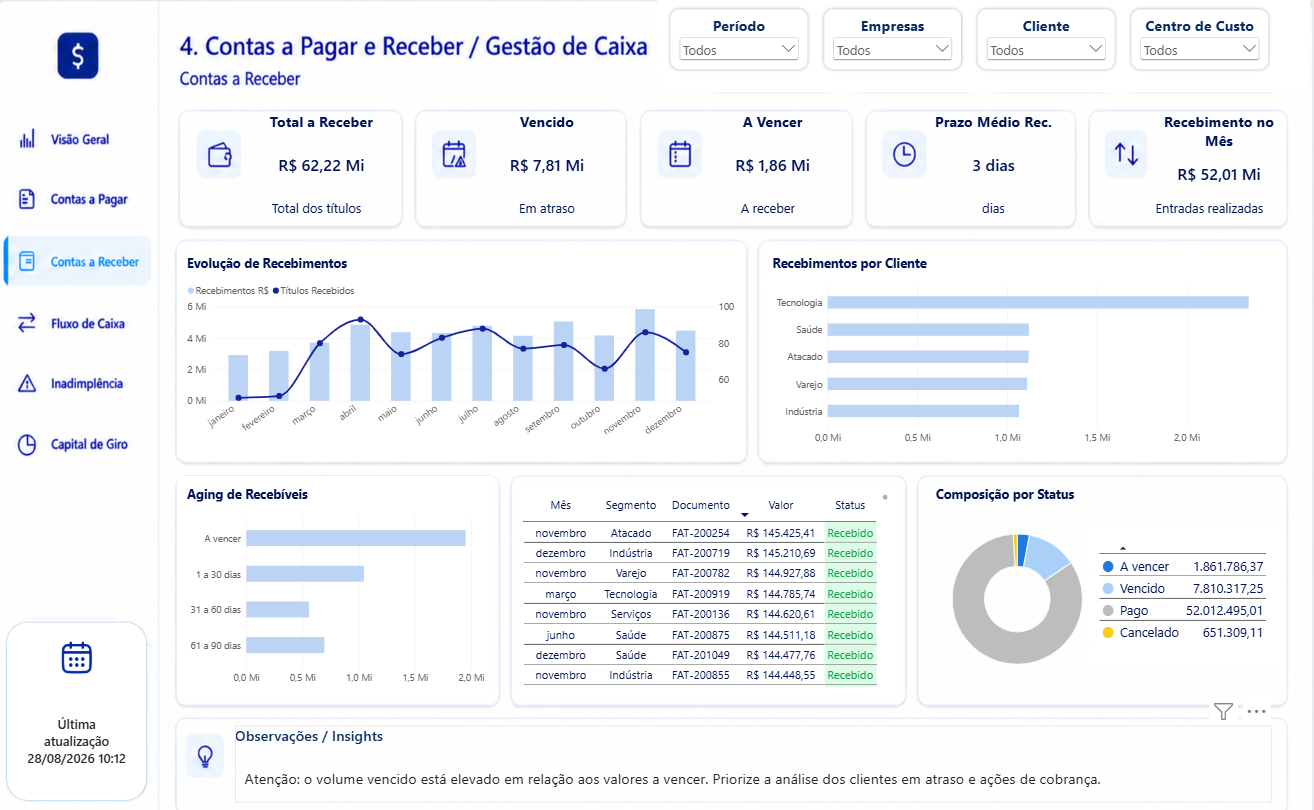

The page's visual inventory and layout, read from the dashboard file:
{"tool":"powerbi","page":{"name":"Contas à Receber","canvas":[2200,1400],"ordinal":2},"visuals":[{"type":"actionButton","box":[16,608,240,64],"z":0},{"type":"actionButton","box":[16,432,240,64],"z":1000},{"type":"actionButton","box":[16,512,240,64],"z":2000},{"type":"actionButton","box":[16,240,240,64],"z":3000},{"type":"actionButton","box":[16,160,224,64],"z":4000},{"type":"shape","box":[16,1040,240,304],"z":5000},{"type":"image","box":[80,1072,112,64],"z":6000},{"type":"shape","box":[1104,0,1088,160],"z":7000},{"type":"shape","box":[1120,16,240,112],"z":8000},{"type":"shape","box":[1376,16,240,112],"z":9000},{"type":"shape","box":[1632,16,240,112],"z":10000},{"type":"shape","box":[1888,16,240,112],"z":11000},{"type":"textbox","box":[1168,32,144,48],"z":12000},{"type":"textbox","box":[1680,32,144,48],"z":13000},{"type":"textbox","box":[1424,32,144,48],"z":14000},{"type":"textbox","box":[1904,32,208,48],"z":15000},{"type":"slicer","fields":{"Values":["dCalendario.Mes_Ano_Eixo"]},"box":[1136,64,208,48],"z":16000},{"type":"slicer","fields":{"Values":["dEmpresas.Empresa"]},"box":[1392,64,208,48],"z":17000},{"type":"slicer","fields":{"Values":["dClientes.Cliente"]},"box":[1648,64,208,48],"z":18000},{"type":"slicer","fields":{"Values":["dUnidades.Unidade"]},"box":[1904,64,208,48],"z":19000},{"type":"cardVisual","title":"Total a Receber","fields":{"Data":["Medidas Contas à Receber.Texto CR Total a Receber"]},"box":[416,192,256,128],"z":20000},{"type":"cardVisual","title":"Vencido","fields":{"Data":["Medidas Contas à Receber.Texto CR Vencido"]},"box":[800,192,240,128],"z":21000},{"type":"cardVisual","title":"A Vencer","fields":{"Data":["Medidas Contas à Receber.Texto CR A Vencer"]},"box":[1168,192,256,128],"z":22000},{"type":"cardVisual","title":"Prazo Médio Rec.","fields":{"Data":["Medidas Contas à Receber.Texto CR Prazo Médio Rec"]},"box":[1536,192,256,128],"z":23000},{"type":"cardVisual","title":"Recebimento no Mês","fields":{"Data":["Medidas Contas à Receber.Texto CR Recebimentos no Mês"]},"box":[1936,192,208,128],"z":24000},{"type":"cardVisual","fields":{"Data":["Medidas Contas à Receber.Subtexto CR Total a Receber"]},"box":[400,320,272,64],"z":25000},{"type":"cardVisual","fields":{"Data":["Medidas Contas à Receber.Subtexto CR Vencido"]},"box":[784,320,272,64],"z":26000},{"type":"cardVisual","fields":{"Data":["Medidas Contas à Receber.Subtexto CR A Vencer"]},"box":[1152,320,272,64],"z":27000},{"type":"cardVisual","fields":{"Data":["Medidas Contas à Receber.Subtexto CR Prazo Médio Rec"]},"box":[1536,320,256,64],"z":28000},{"type":"cardVisual","fields":{"Data":["Medidas Contas à Receber.Subtexto CR Recebimentos no Mês"]},"box":[1888,320,272,64],"z":29000},{"type":"lineClusteredColumnComboChart","title":"Evolução de Recebimentos","fields":{"Y":["Medidas Contas à Receber.CR Recebimentos R$"],"Y2":["Medidas Contas à Receber.CR Títulos Recebidos"],"Category":["dCalendario.Ano_Mes.Variation.Hierarquia de datas.Mês"]},"box":[304,416,944,352],"z":30000},{"type":"clusteredBarChart","title":"Recebimentos por Cliente","fields":{"Y":["Medidas Contas à Receber.CR Recebimentos por Cliente"],"Category":["dClientes.Segmento"]},"box":[1280,416,864,352],"z":31000},{"type":"clusteredBarChart","title":"Aging de Recebíveis","fields":{"Category":["dFaixaAgingVG.Faixa"],"Y":["Medidas Contas à Receber.CR Valor Aging de Recebíveis"]},"box":[304,800,528,368],"z":32000},{"type":"tableEx","fields":{"Values":["fContasReceber.Data_Vencimento.Variation.Hierarquia de datas.Mês","dClientes.Segmento","fContasReceber.Documento","Medidas Visão Geral.Valor Total dos Títulos a Receber","fContasReceber.Status"]},"box":[864,816,640,352],"z":33000},{"type":"donutChart","title":"Composição por Status","fields":{"Y":["Medidas Contas à Receber.Valor Status Composição CR"],"Category":["dStatusComposicaoCR.Status"]},"box":[1552,800,304,368],"z":34000},{"type":"tableEx","fields":{"Values":["Medidas Contas à Receber.Bolinha Status CR","dStatusComposicaoCR.Status","Medidas Contas à Receber.Valor Status Composição CR"]},"box":[1824,880,320,240],"z":35000},{"type":"cardVisual","title":"Observações / Insights","fields":{"Data":["Medidas Contas à Receber.Insight Contas a Receber"]},"box":[400,1216,1728,128],"z":36000},{"type":"cardVisual","fields":{"Data":["Medidas Contas à Receber.Texto CR Última Atualização"]},"box":[32,1152,208,176],"z":37000}]}

Visuals, with their boxes on the page's 2200x1400 design canvas (x1, y1, x2, y2). These are canvas units, not pixel positions in the 1314x810 screenshot, which may show the page scaled, cropped or inside an application window:
actionButton: pyautogui.locateOnScreen(16, 608, 256, 672)
actionButton: pyautogui.locateOnScreen(16, 432, 256, 496)
actionButton: pyautogui.locateOnScreen(16, 512, 256, 576)
actionButton: pyautogui.locateOnScreen(16, 240, 256, 304)
actionButton: pyautogui.locateOnScreen(16, 160, 240, 224)
shape: pyautogui.locateOnScreen(16, 1040, 256, 1344)
image: pyautogui.locateOnScreen(80, 1072, 192, 1136)
shape: pyautogui.locateOnScreen(1104, 0, 2192, 160)
shape: pyautogui.locateOnScreen(1120, 16, 1360, 128)
shape: pyautogui.locateOnScreen(1376, 16, 1616, 128)
shape: pyautogui.locateOnScreen(1632, 16, 1872, 128)
shape: pyautogui.locateOnScreen(1888, 16, 2128, 128)
textbox: pyautogui.locateOnScreen(1168, 32, 1312, 80)
textbox: pyautogui.locateOnScreen(1680, 32, 1824, 80)
textbox: pyautogui.locateOnScreen(1424, 32, 1568, 80)
textbox: pyautogui.locateOnScreen(1904, 32, 2112, 80)
slicer - dCalendario.Mes_Ano_Eixo: pyautogui.locateOnScreen(1136, 64, 1344, 112)
slicer - dEmpresas.Empresa: pyautogui.locateOnScreen(1392, 64, 1600, 112)
slicer - dClientes.Cliente: pyautogui.locateOnScreen(1648, 64, 1856, 112)
slicer - dUnidades.Unidade: pyautogui.locateOnScreen(1904, 64, 2112, 112)
"Total a Receber" cardVisual: pyautogui.locateOnScreen(416, 192, 672, 320)
"Vencido" cardVisual: pyautogui.locateOnScreen(800, 192, 1040, 320)
"A Vencer" cardVisual: pyautogui.locateOnScreen(1168, 192, 1424, 320)
"Prazo Médio Rec." cardVisual: pyautogui.locateOnScreen(1536, 192, 1792, 320)
"Recebimento no Mês" cardVisual: pyautogui.locateOnScreen(1936, 192, 2144, 320)
cardVisual - Medidas Contas à Receber.Subtexto CR Total a Receber: pyautogui.locateOnScreen(400, 320, 672, 384)
cardVisual - Medidas Contas à Receber.Subtexto CR Vencido: pyautogui.locateOnScreen(784, 320, 1056, 384)
cardVisual - Medidas Contas à Receber.Subtexto CR A Vencer: pyautogui.locateOnScreen(1152, 320, 1424, 384)
cardVisual - Medidas Contas à Receber.Subtexto CR Prazo Médio Rec: pyautogui.locateOnScreen(1536, 320, 1792, 384)
cardVisual - Medidas Contas à Receber.Subtexto CR Recebimentos no Mês: pyautogui.locateOnScreen(1888, 320, 2160, 384)
"Evolução de Recebimentos" lineClusteredColumnComboChart: pyautogui.locateOnScreen(304, 416, 1248, 768)
"Recebimentos por Cliente" clusteredBarChart: pyautogui.locateOnScreen(1280, 416, 2144, 768)
"Aging de Recebíveis" clusteredBarChart: pyautogui.locateOnScreen(304, 800, 832, 1168)
tableEx - fContasReceber.Data_Vencimento.Variation.Hierarquia de datas.Mês x dClientes.Segmento: pyautogui.locateOnScreen(864, 816, 1504, 1168)
"Composição por Status" donutChart: pyautogui.locateOnScreen(1552, 800, 1856, 1168)
tableEx - Medidas Contas à Receber.Bolinha Status CR x dStatusComposicaoCR.Status: pyautogui.locateOnScreen(1824, 880, 2144, 1120)
"Observações / Insights" cardVisual: pyautogui.locateOnScreen(400, 1216, 2128, 1344)
cardVisual - Medidas Contas à Receber.Texto CR Última Atualização: pyautogui.locateOnScreen(32, 1152, 240, 1328)
